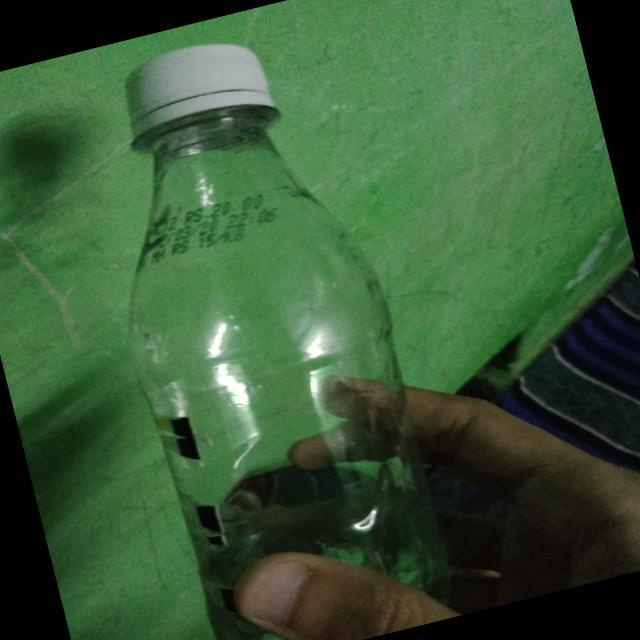good: (56, 11, 463, 640)
